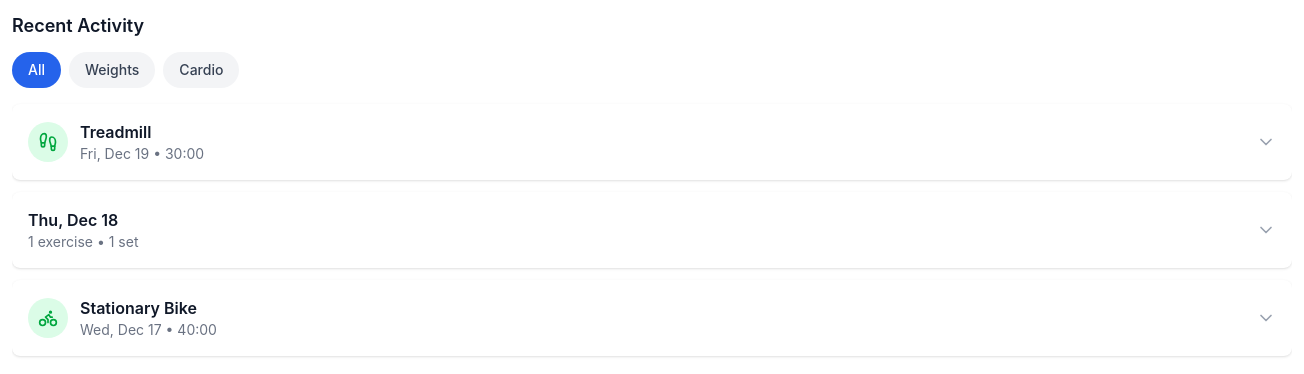
Scenario: ActivityList › should filter to show only cardio when Cardio filter is clicked
The width and height of the screenshot is (1304, 374).
Click the button "Cardio" at (201, 70), box [163,52,239,88]
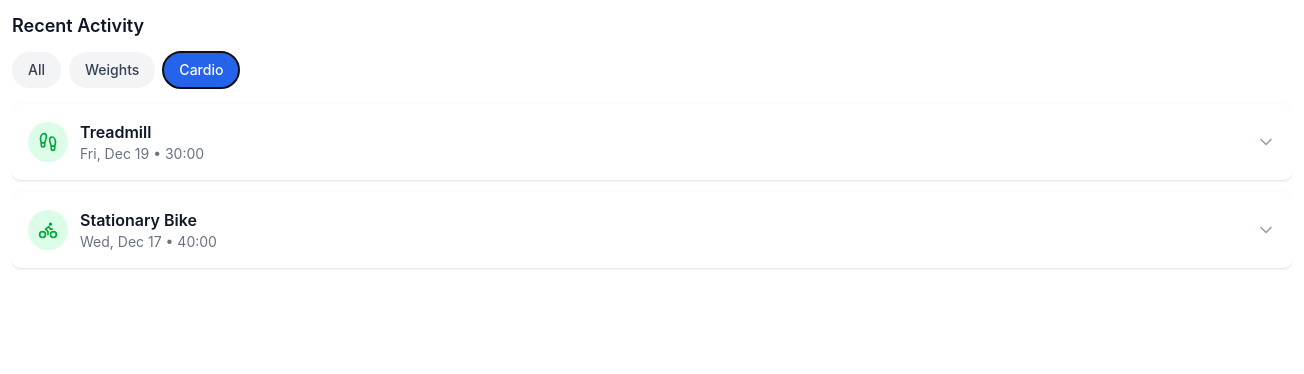
Expected: the text "Treadmill" is shown, [80,122,151,142]
Expected: the button "1 exercise • 1 set" is gone
